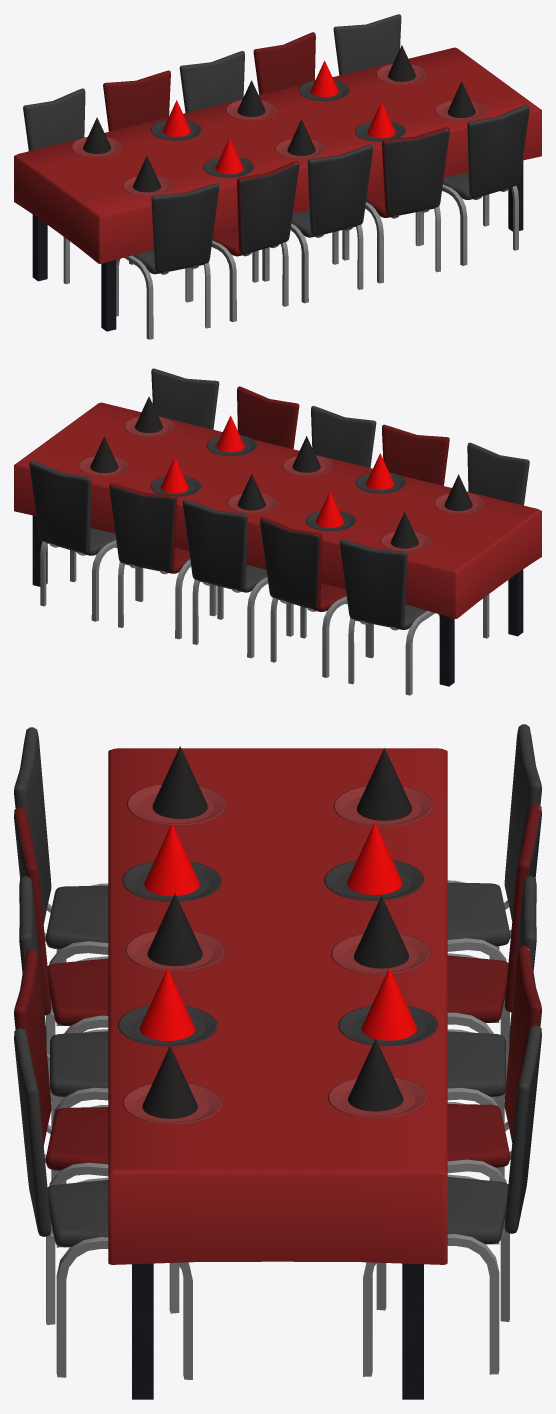
Rendered from partytable2.fbx.
3 views of the same model, one above another, from view 1: azimuth 30°, elevation 25°; view 2: azimuth 150°, elevation 25°; view 3: azimuth 270°, elevation 25° (orthographic). The views are drawn at different scales.
Visible parts, largest first — view 1: party table 2; view 2: party table 2; view 3: party table 2.
Part boxes in pixels (x1,y1,x2,y2): party table 2: (14,14,541,339); party table 2: (14,368,541,695); party table 2: (14,724,541,1399).
Size of the model in its own units: 28.87 by 15.12 by 9.61.
